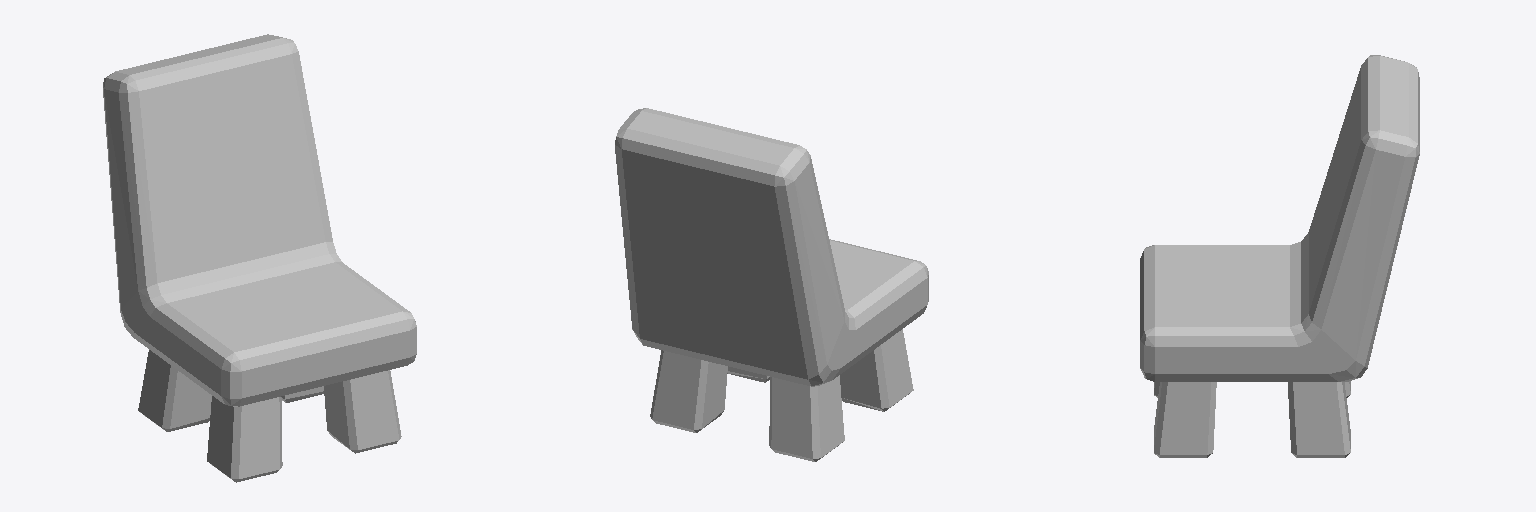
File: chair_C.obj
The picture shows the model from 3 angles: view 1: azimuth 30°, elevation 25°; view 2: azimuth 150°, elevation 25°; view 3: azimuth 270°, elevation 25°; orthographic projection.
Visible parts, largest first — view 1: chair_C_Cube.031; view 2: chair_C_Cube.031; view 3: chair_C_Cube.031.
Part boxes in pixels (bbox=[...]): chair_C_Cube.031: bbox=[103, 34, 416, 482]; chair_C_Cube.031: bbox=[615, 108, 928, 461]; chair_C_Cube.031: bbox=[1140, 55, 1419, 457].
Bounding box in the file's own units: 0.75 × 1.2 × 0.9356.